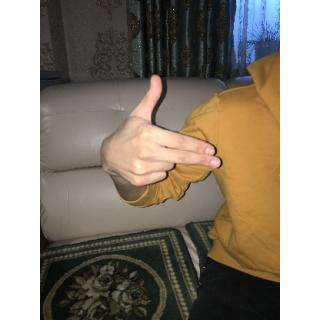GHAYN: (99, 71, 224, 191)
